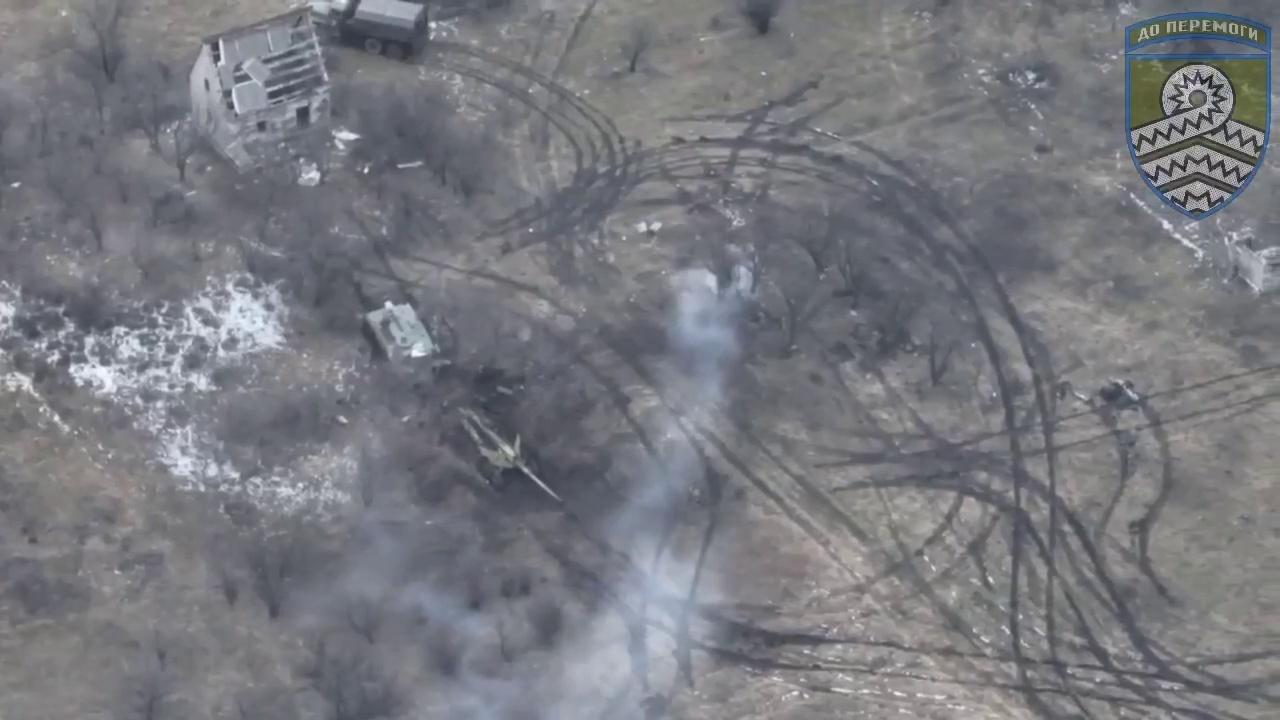person: (152, 59, 170, 86)
vehicle: (454, 404, 564, 506), (363, 302, 447, 386), (306, 0, 432, 54)
